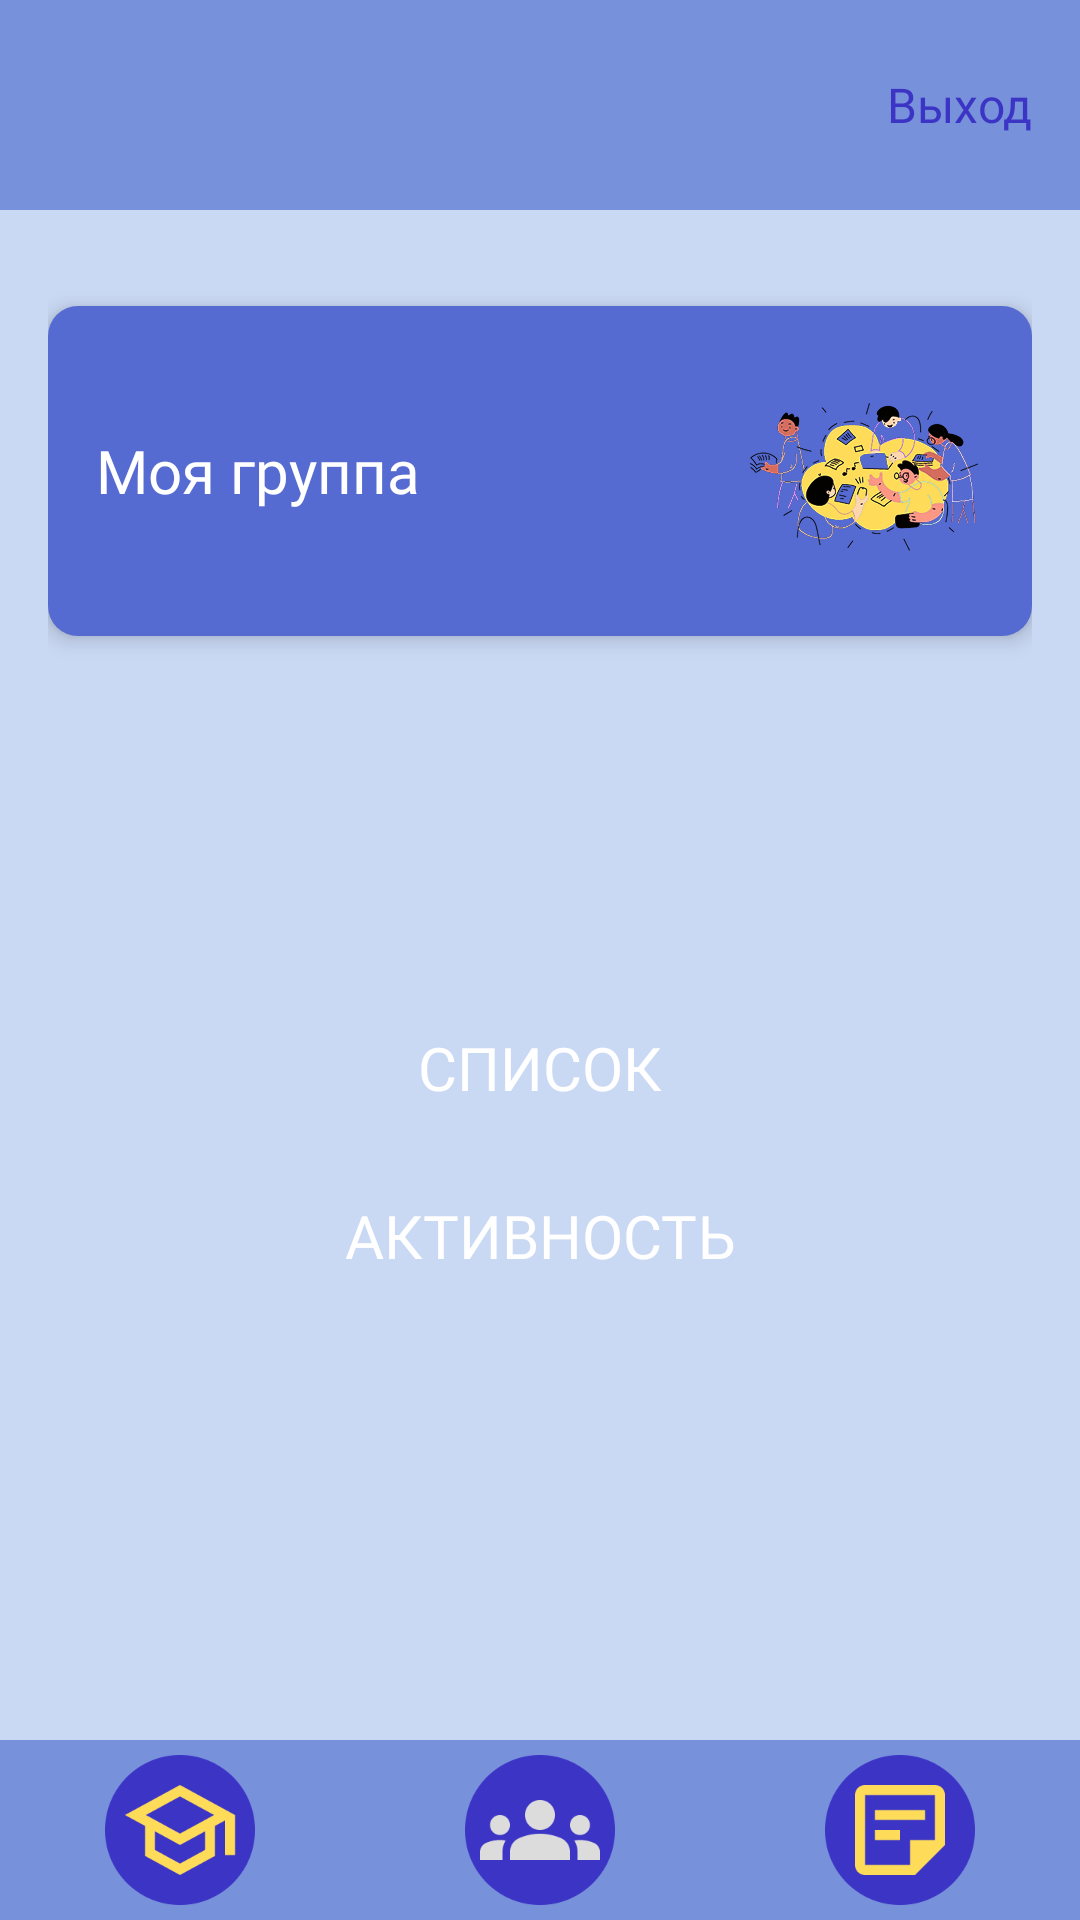

Icon click points for this 1080px×1920px phone screenshot, format [x,y]:
peop: [540,1830]
